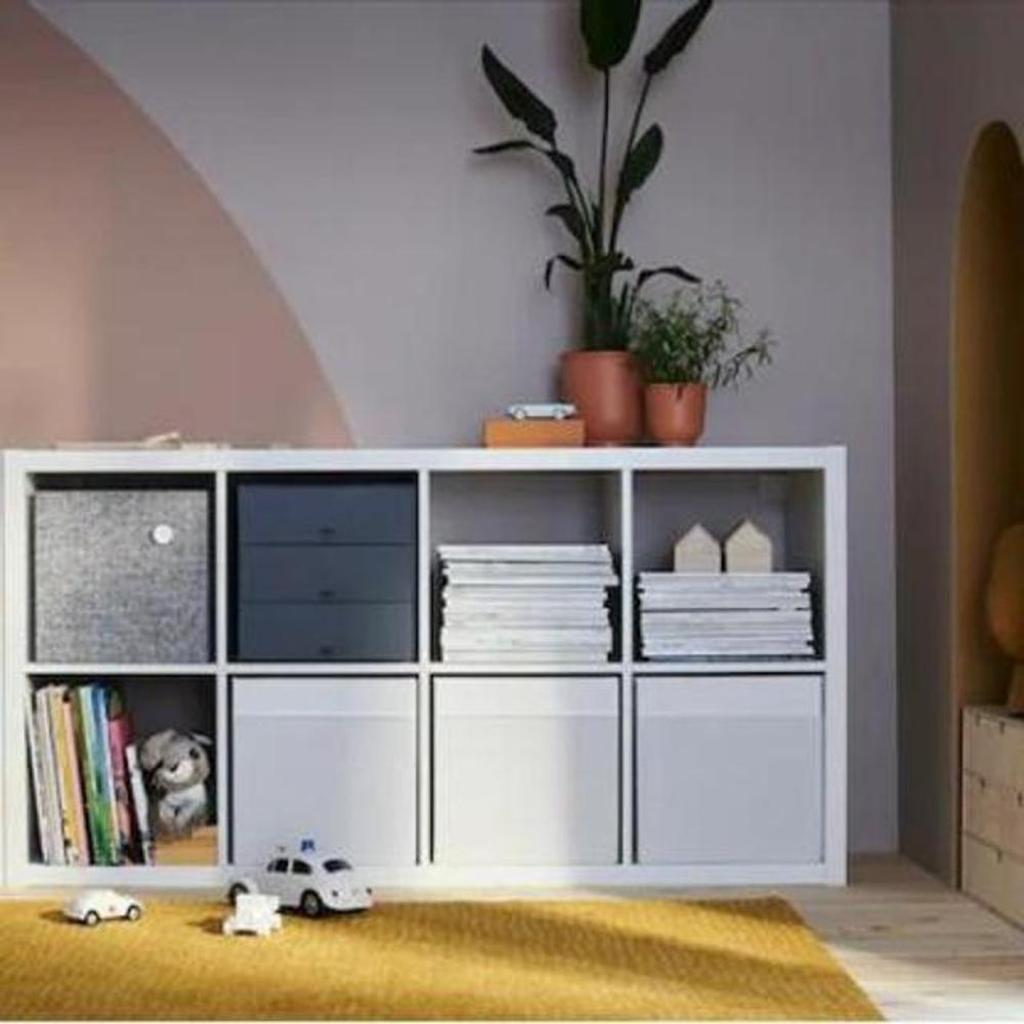lamp: (0, 446, 852, 888)
